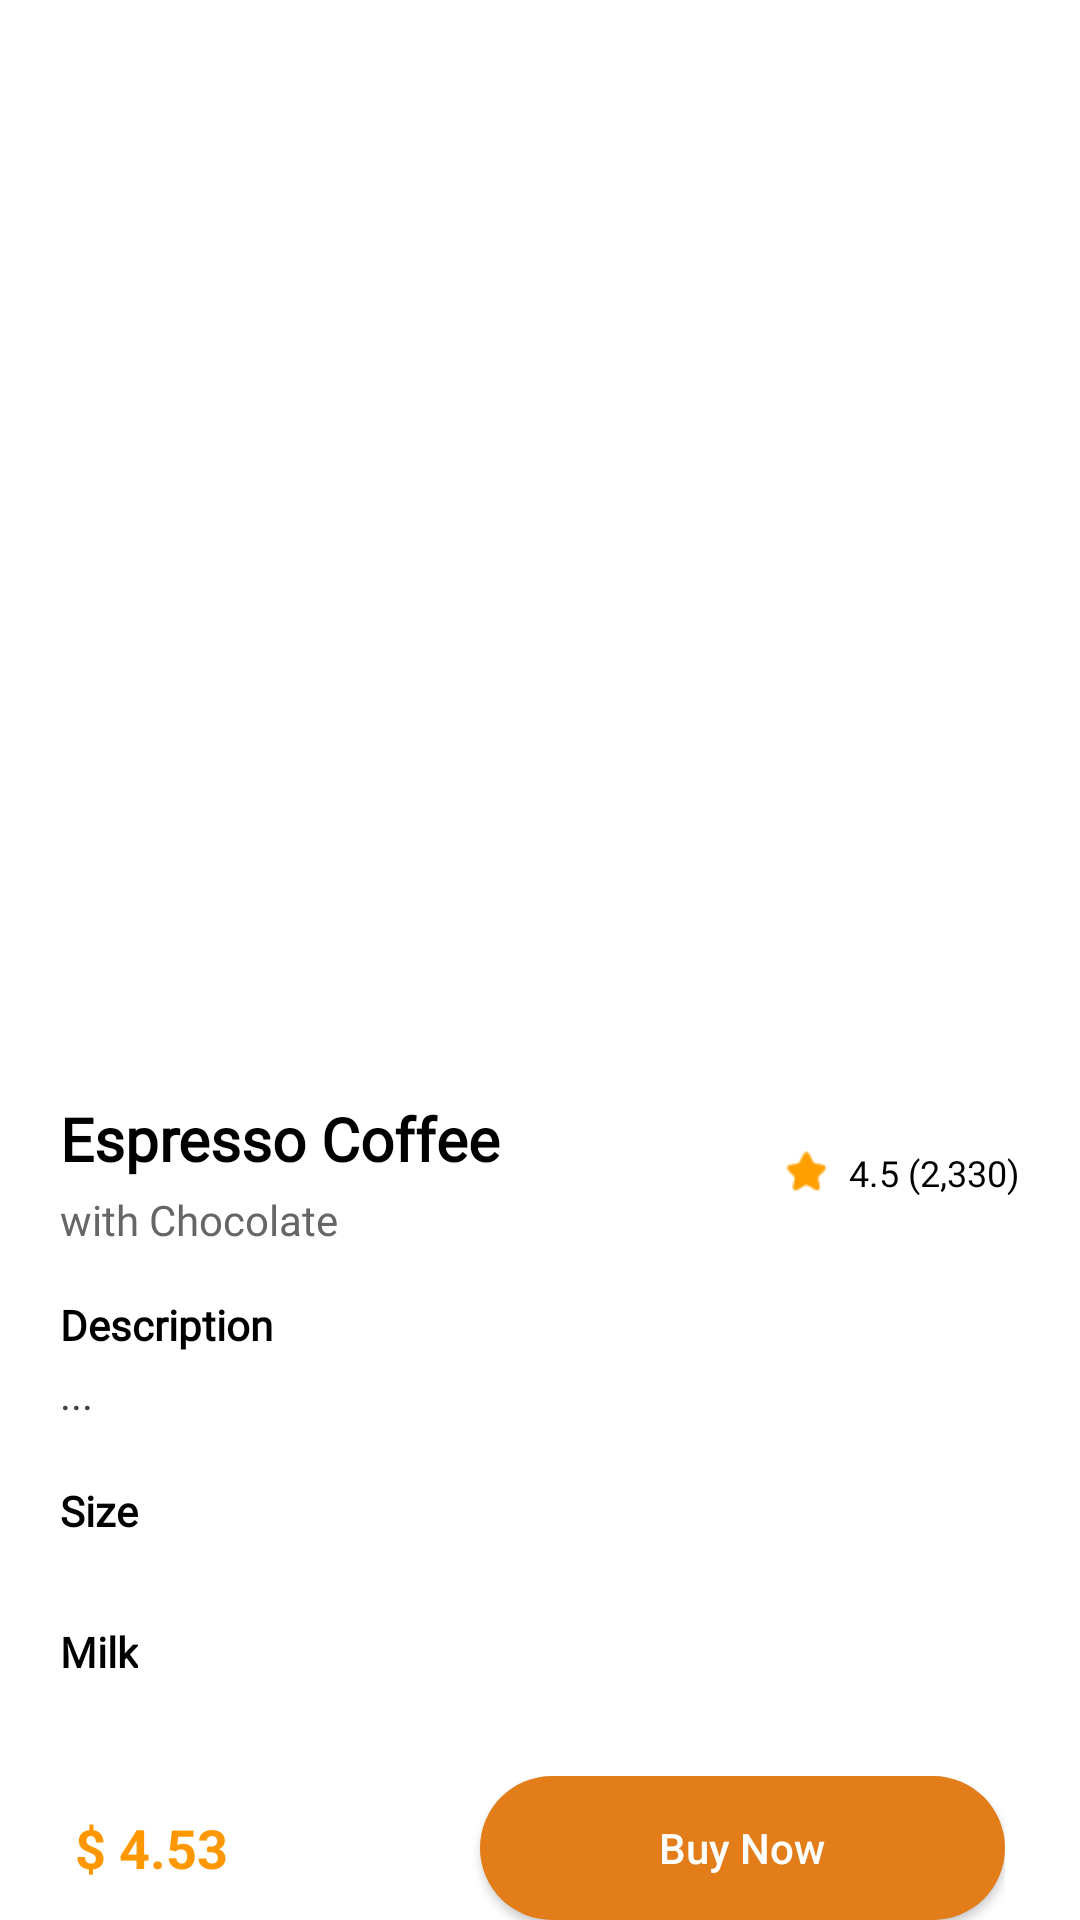

Named icons in this screenshot (1080px×1920px) and their bounding boxes, (x1, y1, x2, y2):
rating: (786, 1151, 826, 1191)
